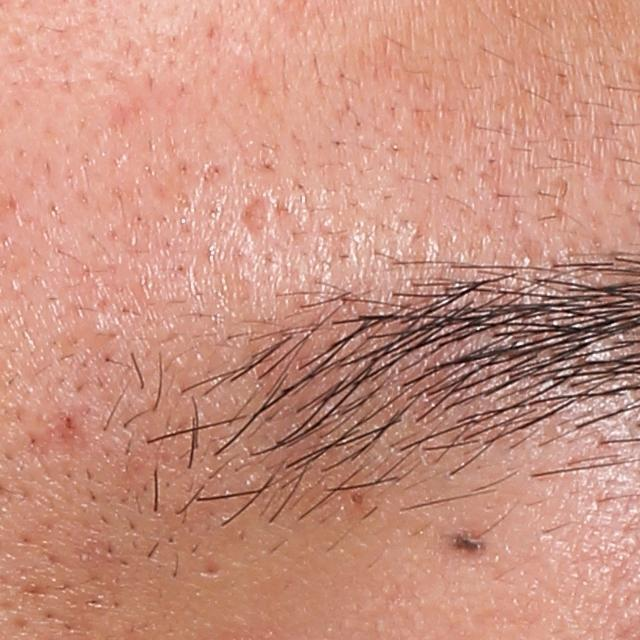atrophic_scar: (235, 191, 273, 253), (199, 556, 231, 582)
comedo: (343, 490, 371, 511)
nevus: (444, 529, 490, 551)
